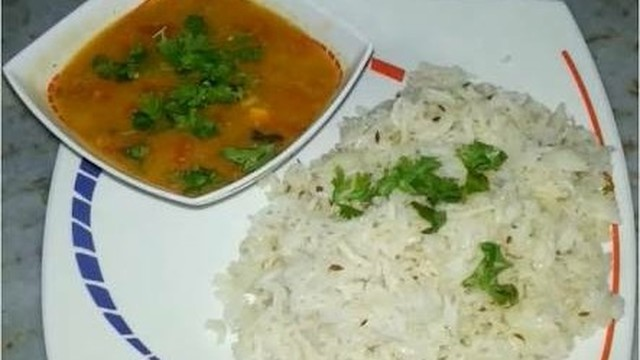plain rice: (295, 109, 596, 360)
